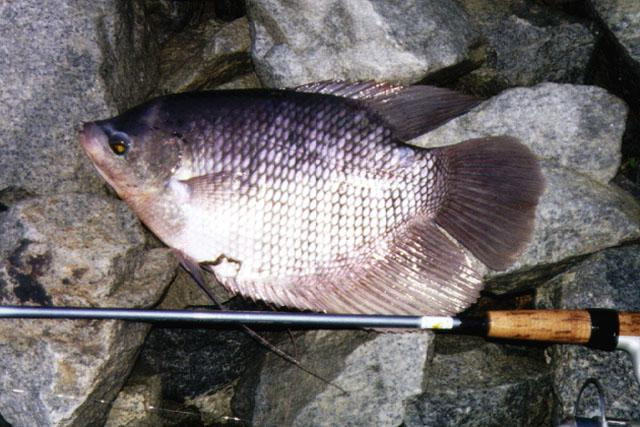Mulut: (62, 103, 108, 170)
Sirip Anal: (230, 218, 494, 340)
Sirip Dada: (171, 148, 263, 230)
Sirip Ekor: (406, 118, 552, 284)
Sirip Punggung: (272, 66, 488, 160)
